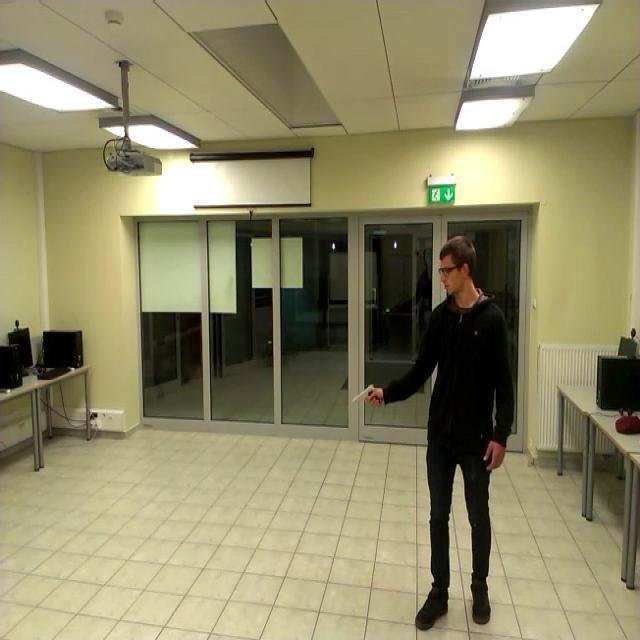gun-knife-thesis - v11 Yolov5 augmented: (348, 374, 385, 410)
